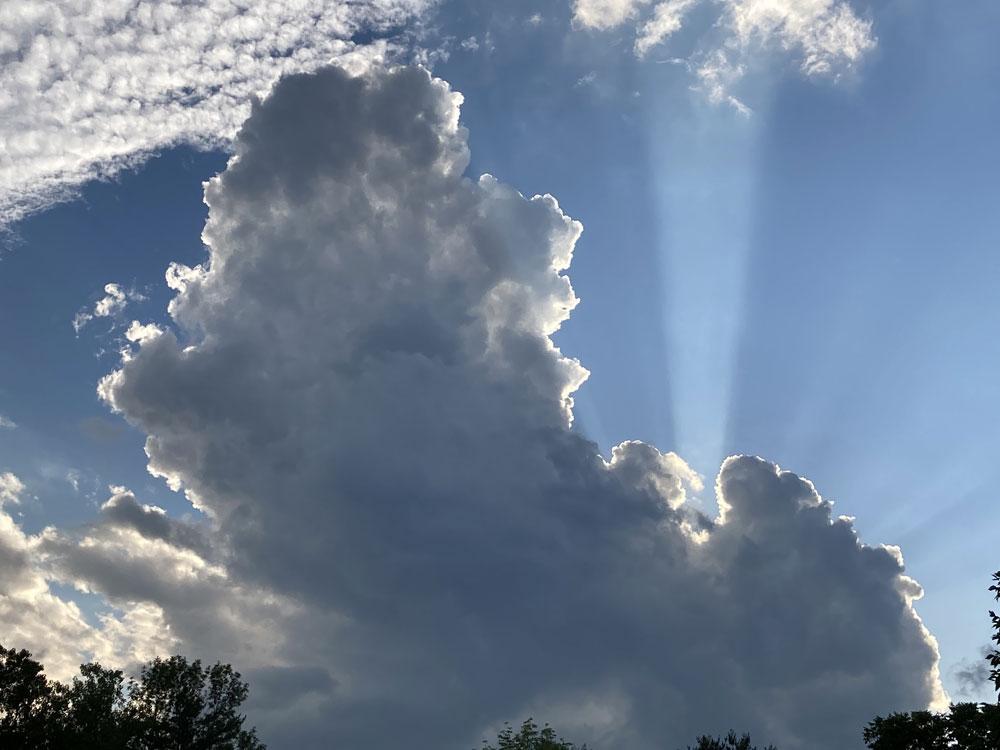Cumulus: (133, 50, 945, 723)
